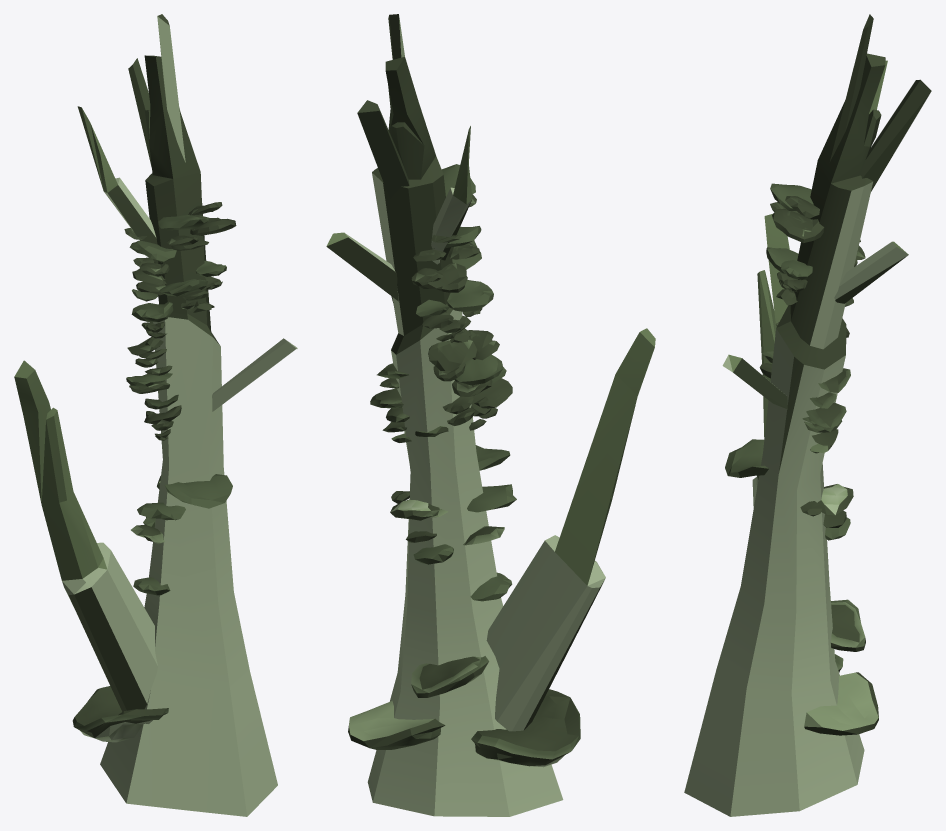
File: EA_Swamp_BrokenTree_01a.glb
The picture shows the model from 3 angles, left to right: view 1: azimuth 30°, elevation 25°; view 2: azimuth 150°, elevation 25°; view 3: azimuth 270°, elevation 25°; orthographic projection. The views are drawn at different scales.
Parts seen in each view (by area): view 1: EA_Swamp_BrokenTree_01a; view 2: EA_Swamp_BrokenTree_01a; view 3: EA_Swamp_BrokenTree_01a.
Boxes of the visible parts, x1,y1,x2,y2 form: EA_Swamp_BrokenTree_01a: [14, 14, 297, 816]; EA_Swamp_BrokenTree_01a: [326, 14, 655, 816]; EA_Swamp_BrokenTree_01a: [684, 14, 931, 816].
Size of the model in its own units: 2.88 by 7.75 by 2.24.
Materials: 1 (1 with a texture image).
